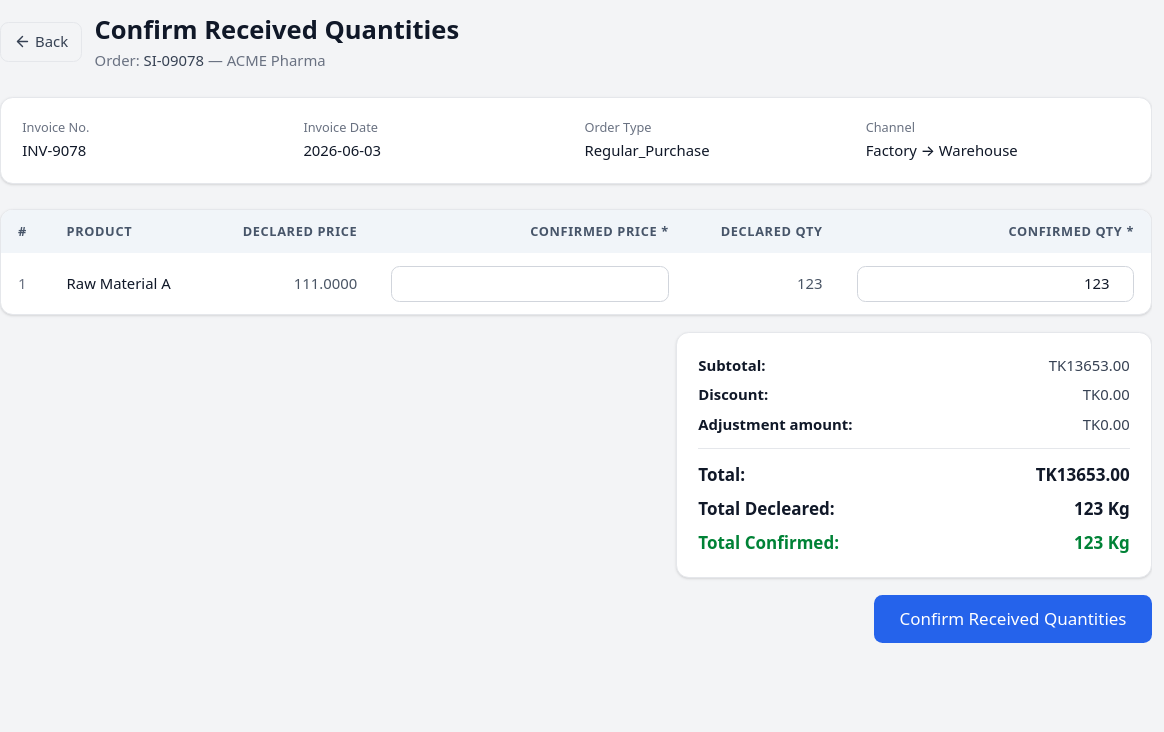
Test: ConfirmQuantityPage summary › surfaces a validation banner when malformed invoice data blocks submission before the request is sent
Click the button "Confirm Received Quantities" at (1013, 619), box [874, 595, 1152, 643]
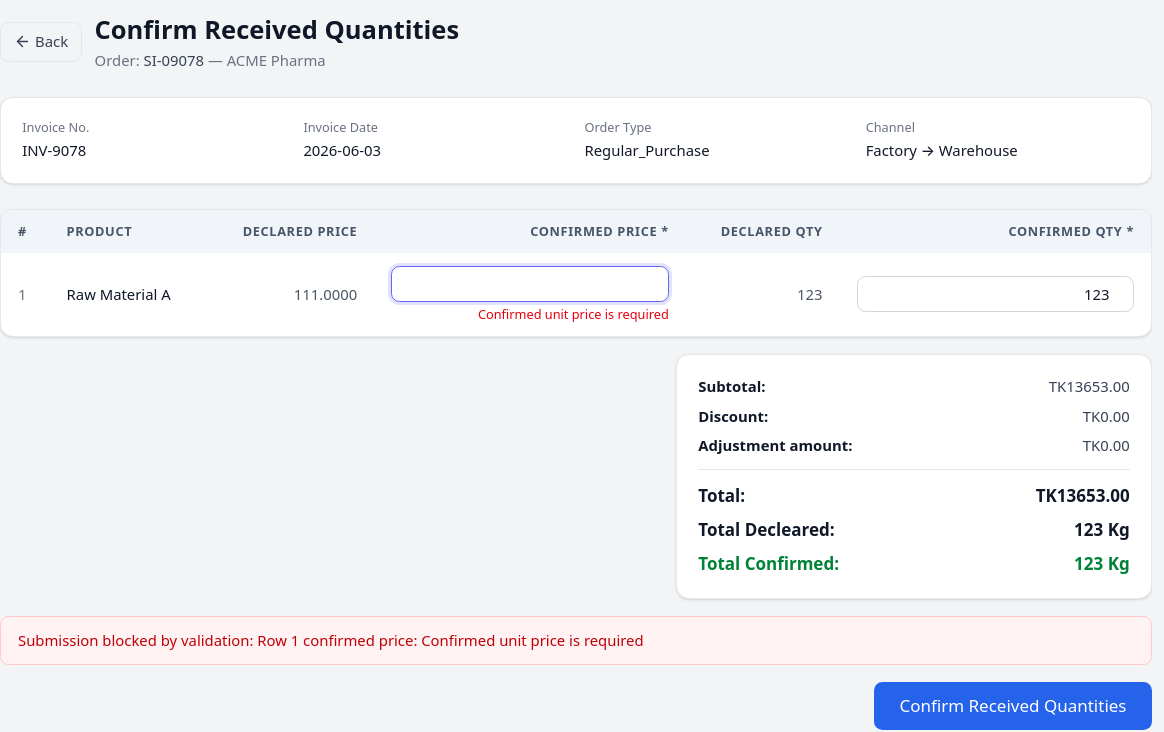
Expected: the message is shown, [0, 616, 1152, 665]
Expected: the text "Row 1 confirmed price" is shown, [18, 630, 644, 650]
